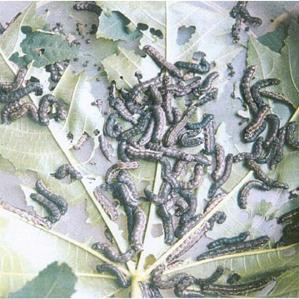Tobacco cutworm: (151, 154, 211, 216), (26, 180, 76, 231), (171, 226, 224, 273), (201, 143, 244, 195), (229, 176, 276, 219), (139, 44, 189, 84), (118, 204, 155, 254), (236, 97, 275, 143), (146, 261, 196, 294), (91, 256, 133, 294), (1, 96, 38, 139), (89, 235, 132, 270), (0, 61, 41, 95), (191, 111, 226, 150), (237, 64, 269, 106), (106, 176, 143, 211), (146, 106, 174, 146), (33, 91, 61, 130), (92, 115, 126, 146), (124, 143, 162, 169), (98, 161, 129, 187)
